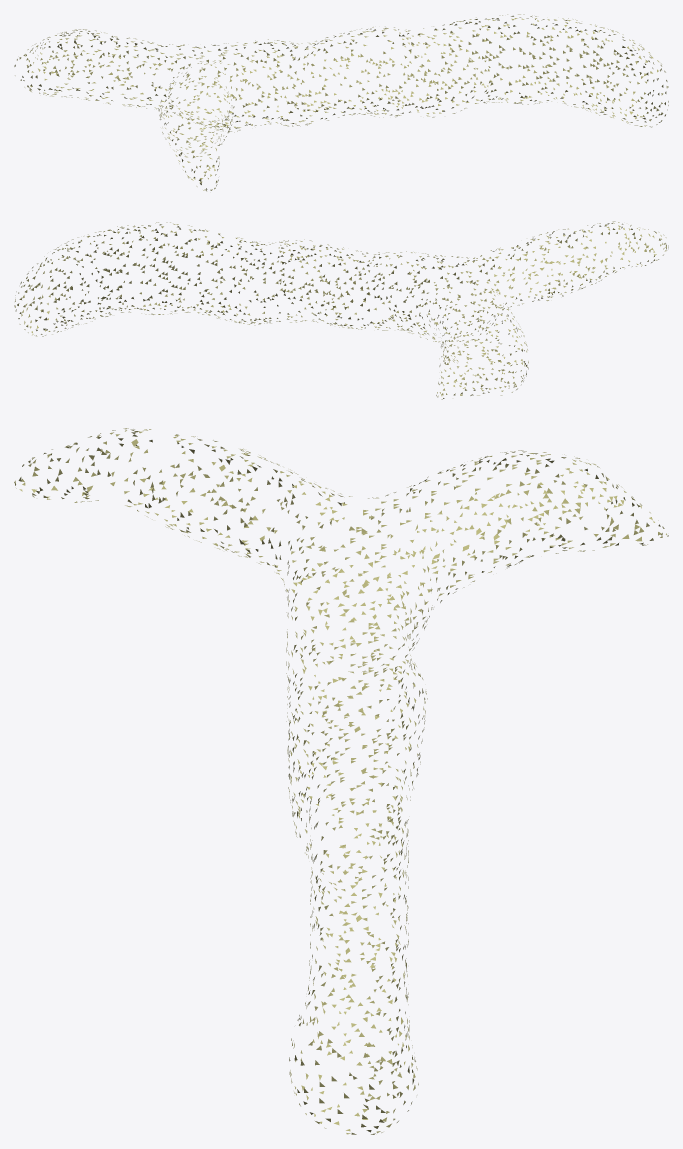
Rendered from morph_009.glb.
3 views of the same model, one above another, from view 1: azimuth 30°, elevation 25°; view 2: azimuth 150°, elevation 25°; view 3: azimuth 270°, elevation 25° (orthographic). The views are drawn at different scales.
Bounding box in the file's own units: 128 × 40 × 78.79.
